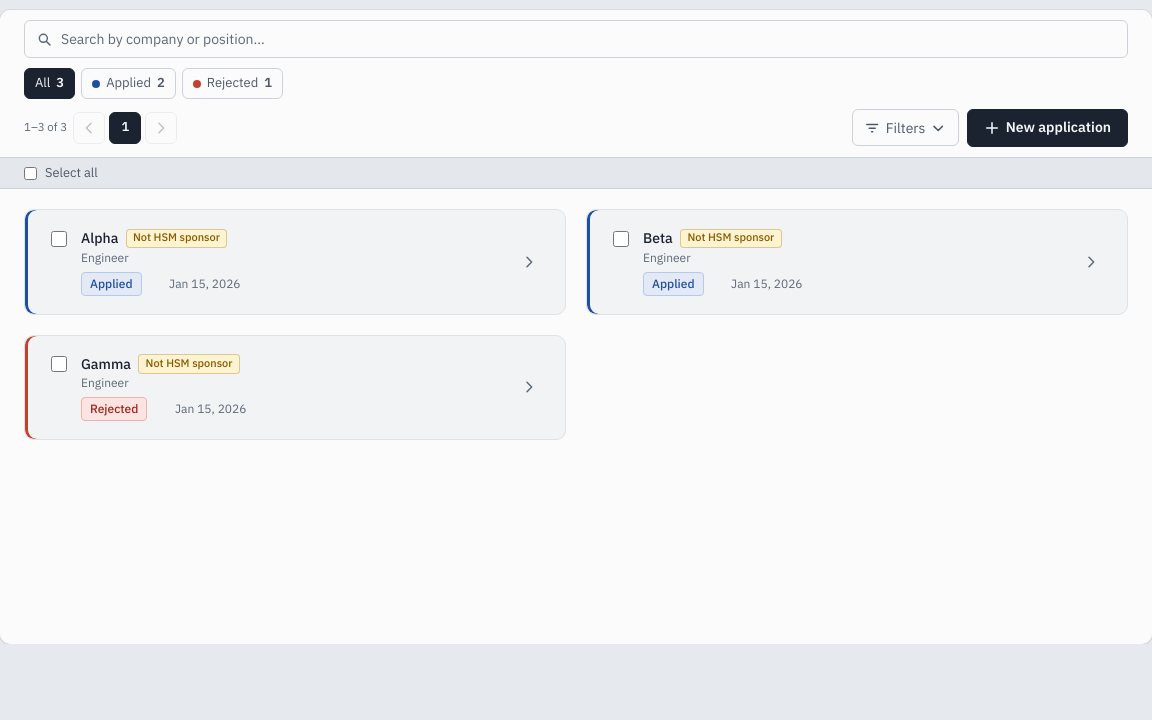
Test: ApplicationsView – status tabs › the Filters panel no longer duplicates the status control
Click the button with class "btn-filter-toggle". click: (906, 128)
box: [852,109,959,146]
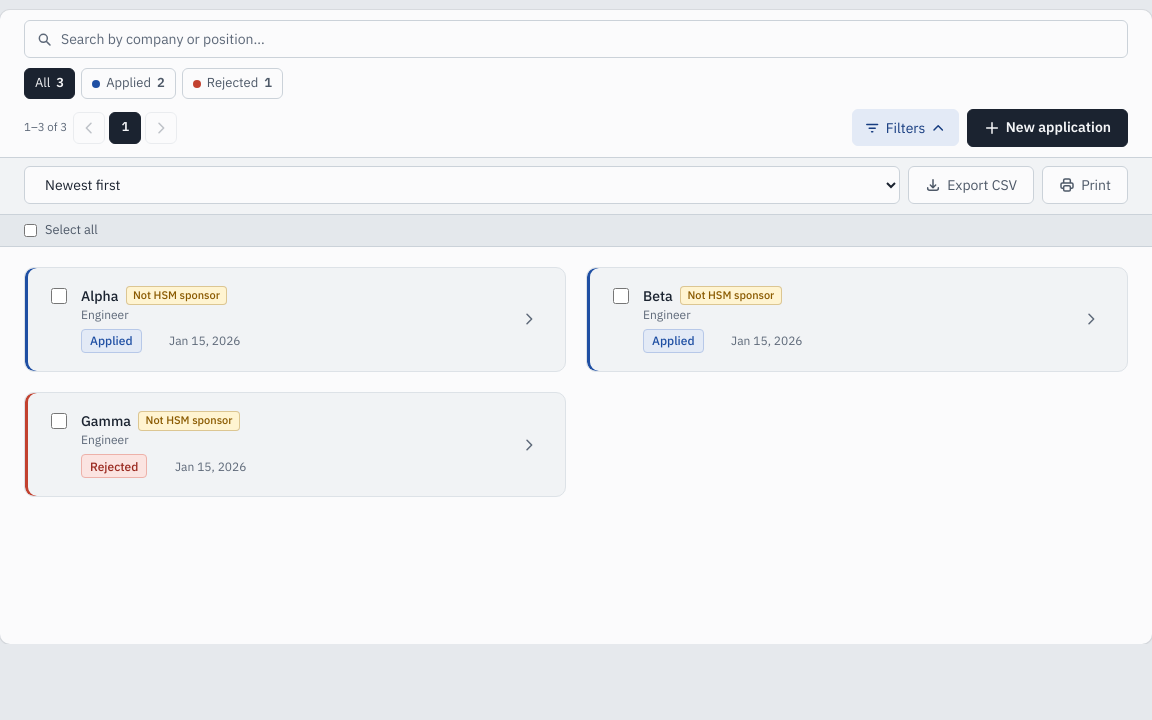
Now the dropdown named "Sort order" is shown, box [24,166,900,204]
